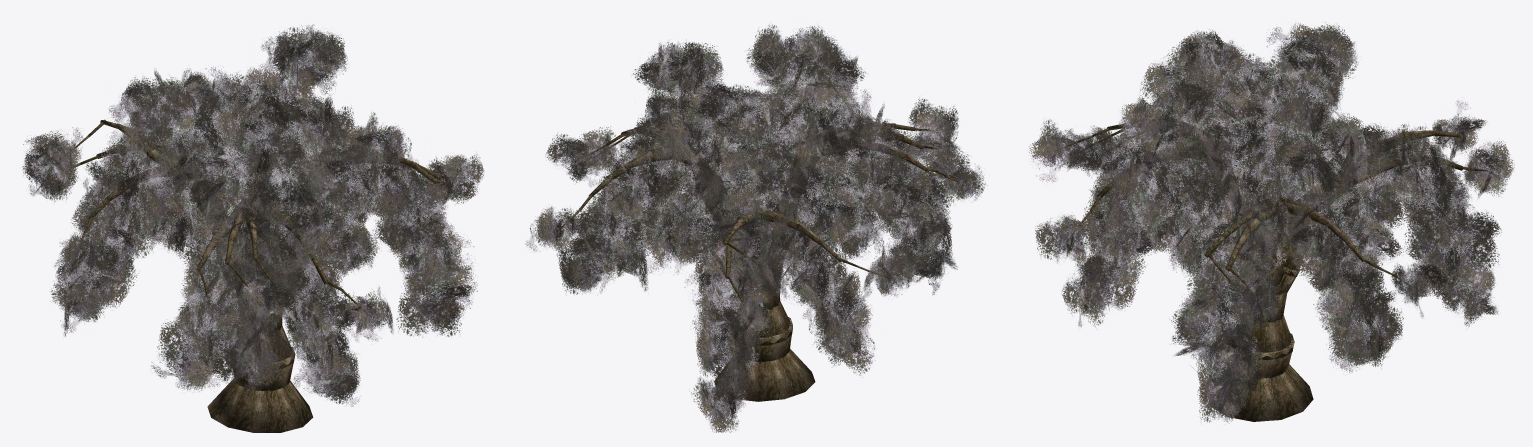
The model's file is blossom_6.glb.
The picture shows the model from 3 angles, left to right: view 1: azimuth 30°, elevation 25°; view 2: azimuth 150°, elevation 25°; view 3: azimuth 270°, elevation 25°; orthographic projection. The views are drawn at different scales.
Parts seen in each view (by area): view 1: blossom; view 2: blossom; view 3: blossom.
Boxes of the visible parts, x1,y1,x2,y2 form: blossom: (22,24,484,432); blossom: (525,24,985,432); blossom: (1029,22,1514,424).
Bounding box in the file's own units: 21.78 × 18.34 × 22.56.
2 materials, 2 textured.
